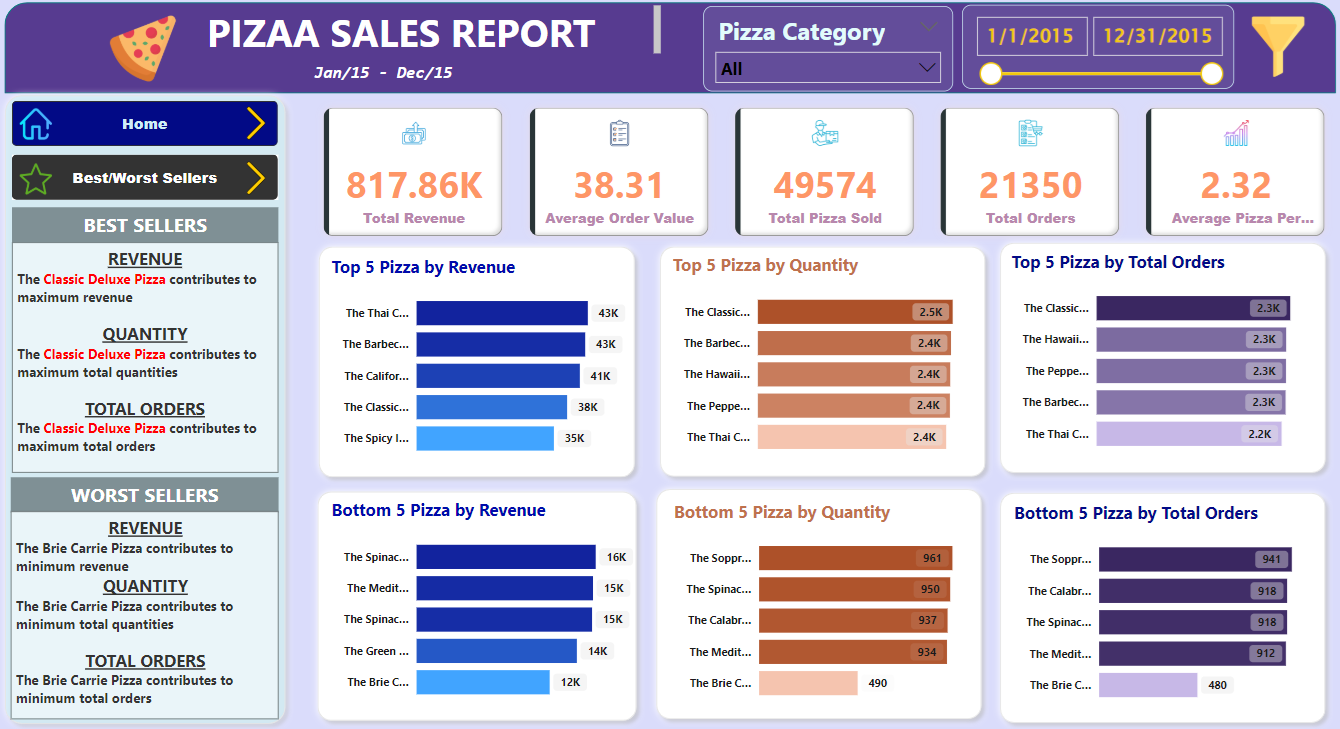

The dashboard page shown, as its layout file describes it:
{"tool":"powerbi","page":{"name":"Best/Worst Sellers","canvas":[1500,820],"ordinal":1},"visuals":[{"type":"cardVisual","fields":{"Data":["pizza_sales.Total Revenue","pizza_sales.Average Order Value","pizza_sales.Total Pizza Sold","pizza_sales.Total Orders","pizza_sales.Average Pizza Per Order"]},"box":[348.3,108.3,1151.7,175],"z":0},{"type":"shape","box":[8.3,6.7,1483.3,101.7],"z":1000},{"type":"textbox","box":[165,5,580,65],"z":2000},{"type":"textbox","box":[348.3,70,268.3,46.7],"z":3000},{"type":"shape","box":[350,270,370,275],"z":4000},{"type":"shape","box":[0,101.5,330.3,718.2],"z":5000},{"type":"textbox","title":"BEST","box":[16.7,235.6,297,39.4],"z":6000},{"type":"textbox","box":[16.7,274.3,296.7,256.7],"z":7000},{"type":"textbox","box":[15,536,298.5,39.4],"z":8000},{"type":"textbox","box":[15,573.4,298.3,231.7],"z":9000},{"type":"slicer","fields":{"Values":["pizza_sales.pizza_category"]},"box":[786.7,11.7,278.3,95],"z":10000},{"type":"slicer","fields":{"Values":["pizza_sales.order_date"]},"box":[1075,10,303.3,93.3],"z":11000},{"type":"shape","box":[729.7,270.1,380.3,274.2],"z":12000},{"type":"shape","box":[1108.2,265.6,380.6,274.2],"z":13000},{"type":"shape","box":[348.3,543.3,373.3,273.3],"z":14000},{"type":"shape","box":[725.1,540.4,380.3,274.2],"z":15000},{"type":"shape","box":[1108.5,544.9,380.3,274.2],"z":16000},{"type":"barChart","title":"Top 5 Pizza by Revenue","fields":{"Category":["pizza_sales.pizza_name"],"Y":["pizza_sales.Total Revenue"]},"box":[368.3,288.3,346.7,238.3],"z":17000},{"type":"barChart","title":"Bottom 5 Pizza by Revenue","fields":{"Category":["pizza_sales.pizza_name"],"Y":["pizza_sales.Total Revenue"]},"box":[368.3,560,346.7,238.3],"z":18000},{"type":"barChart","title":"Top 5 Pizza by Quantity","fields":{"Category":["pizza_sales.pizza_name"],"Y":["pizza_sales.Total Pizza Sold"]},"box":[747.8,287,347,237.9],"z":19000},{"type":"barChart","title":"Bottom 5 Pizza by Quantity","fields":{"Category":["pizza_sales.pizza_name"],"Y":["pizza_sales.Total Pizza Sold"]},"box":[749.3,561.3,347,237.9],"z":20000},{"type":"barChart","title":"Top 5 Pizza by Total Orders","fields":{"Category":["pizza_sales.pizza_name"],"Y":["pizza_sales.Total Orders"]},"box":[1125.9,283.3,346.8,238.7],"z":21000},{"type":"barChart","title":"Bottom 5 Pizza by Total Orders","fields":{"Category":["pizza_sales.pizza_name"],"Y":["pizza_sales.Total Orders"]},"box":[1127.5,562.4,346.8,238.7],"z":22000},{"type":"pageNavigator","box":[16.7,116.9,297,50],"z":23000},{"type":"pageNavigator","box":[16.7,177.6,297,50],"z":24000},{"type":"image","box":[265.2,179.1,48.5,47],"z":25000},{"type":"image","box":[18.2,120,50,45.5],"z":26000},{"type":"image","box":[265.2,118.5,48.5,47],"z":27000},{"type":"image","box":[18.2,180.6,50,45.5],"z":28000},{"type":"image","box":[1353.3,18.3,146.7,76.7],"z":29000},{"type":"image","box":[96.7,15,133.3,86.7],"z":30000}]}

Visuals, with their boxes in screenshot pixels (x1, y1, x2, y2), scaled from the page's 1500x820 canvas onto the 1340x729 screenshot:
cardVisual - pizza_sales.Total Revenue x pizza_sales.Average Order Value: {"left": 311, "top": 96, "right": 1339, "bottom": 252}
shape: {"left": 7, "top": 6, "right": 1332, "bottom": 96}
textbox: {"left": 147, "top": 4, "right": 666, "bottom": 62}
textbox: {"left": 311, "top": 62, "right": 551, "bottom": 104}
shape: {"left": 313, "top": 240, "right": 643, "bottom": 485}
shape: {"left": 0, "top": 90, "right": 295, "bottom": 728}
"BEST" textbox: {"left": 15, "top": 209, "right": 280, "bottom": 244}
textbox: {"left": 15, "top": 244, "right": 280, "bottom": 472}
textbox: {"left": 13, "top": 477, "right": 280, "bottom": 512}
textbox: {"left": 13, "top": 510, "right": 280, "bottom": 716}
slicer - pizza_sales.pizza_category: {"left": 703, "top": 10, "right": 951, "bottom": 95}
slicer - pizza_sales.order_date: {"left": 960, "top": 9, "right": 1231, "bottom": 92}
shape: {"left": 652, "top": 240, "right": 992, "bottom": 484}
shape: {"left": 990, "top": 236, "right": 1330, "bottom": 480}
shape: {"left": 311, "top": 483, "right": 645, "bottom": 726}
shape: {"left": 648, "top": 480, "right": 987, "bottom": 724}
shape: {"left": 990, "top": 484, "right": 1330, "bottom": 728}
"Top 5 Pizza by Revenue" barChart: {"left": 329, "top": 256, "right": 639, "bottom": 468}
"Bottom 5 Pizza by Revenue" barChart: {"left": 329, "top": 498, "right": 639, "bottom": 710}
"Top 5 Pizza by Quantity" barChart: {"left": 668, "top": 255, "right": 978, "bottom": 467}
"Bottom 5 Pizza by Quantity" barChart: {"left": 669, "top": 499, "right": 979, "bottom": 711}
"Top 5 Pizza by Total Orders" barChart: {"left": 1006, "top": 252, "right": 1316, "bottom": 464}
"Bottom 5 Pizza by Total Orders" barChart: {"left": 1007, "top": 500, "right": 1317, "bottom": 712}
pageNavigator: {"left": 15, "top": 104, "right": 280, "bottom": 148}
pageNavigator: {"left": 15, "top": 158, "right": 280, "bottom": 202}
image: {"left": 237, "top": 159, "right": 280, "bottom": 201}
image: {"left": 16, "top": 107, "right": 61, "bottom": 147}
image: {"left": 237, "top": 105, "right": 280, "bottom": 147}
image: {"left": 16, "top": 161, "right": 61, "bottom": 201}
image: {"left": 1209, "top": 16, "right": 1339, "bottom": 84}
image: {"left": 86, "top": 13, "right": 205, "bottom": 90}
